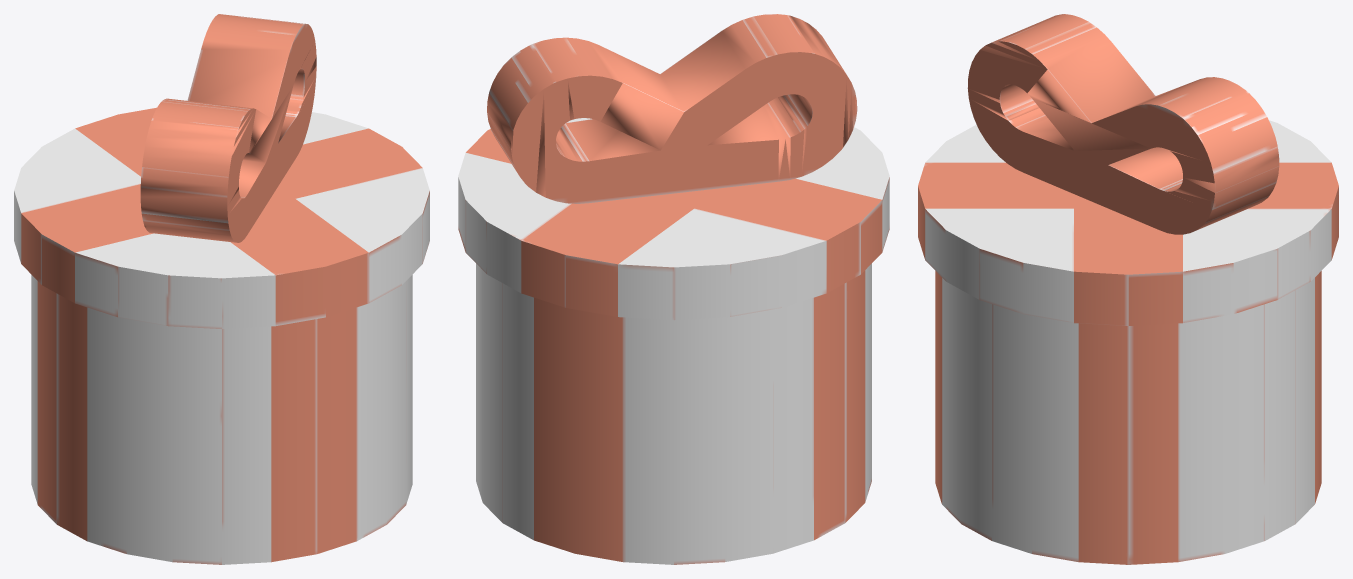
File: presents2.glb
3 renders of one model, left to right at view 1: azimuth 30°, elevation 25°; view 2: azimuth 150°, elevation 25°; view 3: azimuth 270°, elevation 25°, orthographic. The views are drawn at different scales.
Parts seen in each view (by area): view 1: presentRoundRebuild; view 2: presentRoundRebuild; view 3: presentRoundRebuild.
Part boxes in pixels (x1,y1,x2,y2): presentRoundRebuild: (14, 14, 429, 564); presentRoundRebuild: (458, 14, 889, 564); presentRoundRebuild: (918, 14, 1338, 564).
Size of the model in its own units: 0.361 by 0.3997 by 0.361.
Materials: 1 (1 with a texture image).
